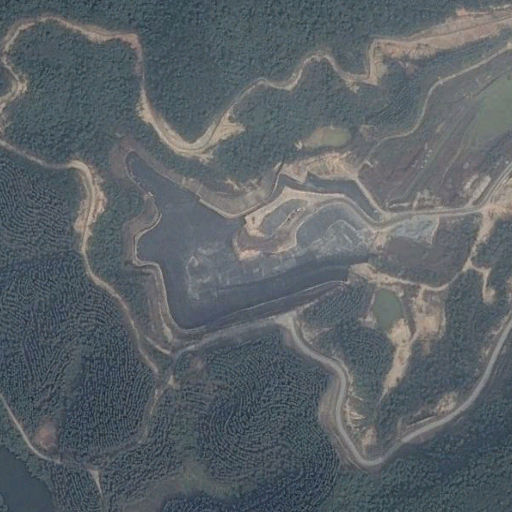lf: (126, 150, 386, 333)
